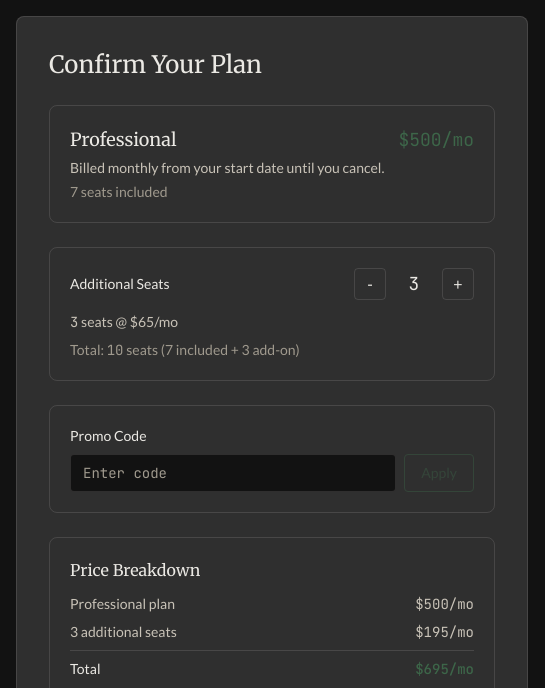
Test case: PricingLaunchCheckout › decrements seat count when remove button clicked
Click the button named "Remove seat": click(370, 284) [354,268,386,300]
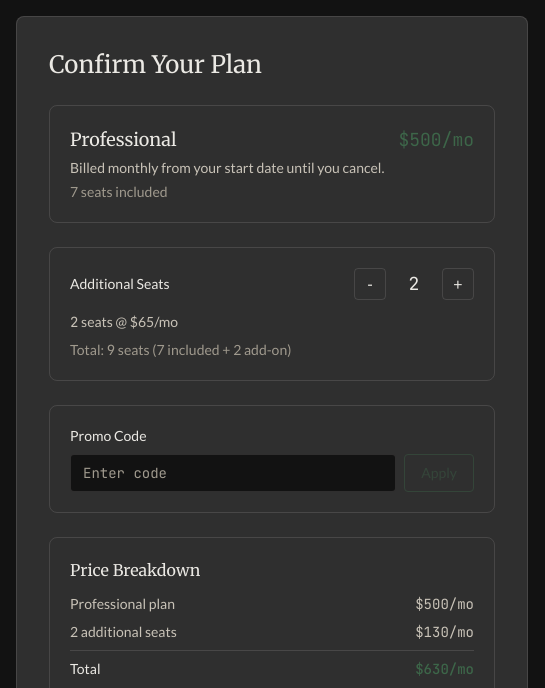
Now the 1st text "2" is shown, box [409,272,419,295]
